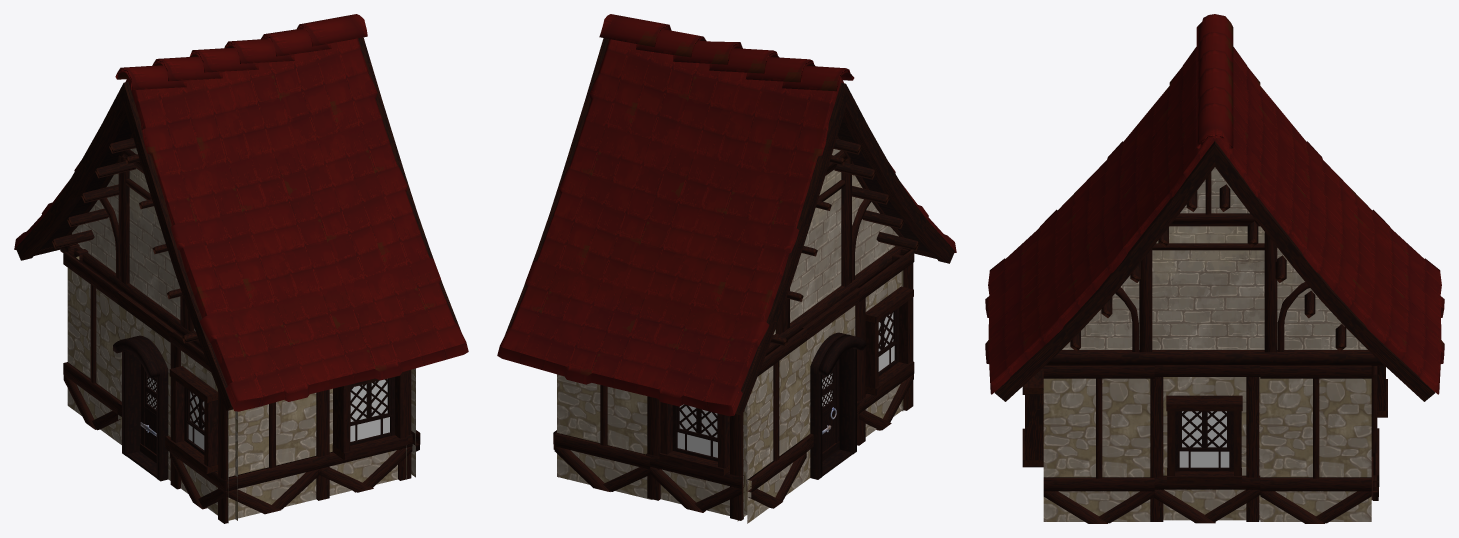
The model's file is Casa_grande.obj.
The picture shows the model from 3 angles, left to right: view 1: azimuth 30°, elevation 25°; view 2: azimuth 150°, elevation 25°; view 3: azimuth 270°, elevation 25°; orthographic projection.
Parts seen in each view (by area): view 1: StaticMeshActor_80, StaticMeshActor_67, StaticMeshActor_47, StaticMeshActor_45, StaticMeshActor_62, StaticMeshActor_43, StaticMeshActor_41, StaticMeshActor_94, StaticMeshActor_61, StaticMeshActor_59, StaticMeshActor_90, StaticMeshActor_49; view 2: StaticMeshActor_80, StaticMeshActor_67, StaticMeshActor_46, StaticMeshActor_45, StaticMeshActor_39, StaticMeshActor_41, StaticMeshActor_94, StaticMeshActor_95, StaticMeshActor_61, StaticMeshActor_59, StaticMeshActor_90; view 3: StaticMeshActor_80, StaticMeshActor_68, StaticMeshActor_50, StaticMeshActor_49, StaticMeshActor_48, StaticMeshActor_63, StaticMeshActor_62, StaticMeshActor_46, StaticMeshActor_95.
Boxes of the visible parts, bbox=[...] form: StaticMeshActor_80: bbox=[14, 14, 468, 411]; StaticMeshActor_67: bbox=[52, 138, 202, 349]; StaticMeshActor_47: bbox=[226, 393, 321, 520]; StaticMeshActor_45: bbox=[63, 251, 122, 444]; StaticMeshActor_62: bbox=[332, 370, 408, 460]; StaticMeshActor_43: bbox=[316, 370, 412, 500]; StaticMeshActor_41: bbox=[169, 331, 237, 523]; StaticMeshActor_94: bbox=[113, 335, 168, 481]; StaticMeshActor_61: bbox=[169, 366, 217, 474]; StaticMeshActor_59: bbox=[117, 291, 176, 480]; StaticMeshActor_90: bbox=[140, 363, 156, 462]; StaticMeshActor_49: bbox=[406, 368, 420, 479]; StaticMeshActor_80: bbox=[497, 14, 956, 416]; StaticMeshActor_67: bbox=[766, 139, 919, 353]; StaticMeshActor_46: bbox=[554, 374, 652, 499]; StaticMeshActor_45: bbox=[737, 328, 806, 523]; StaticMeshActor_39: bbox=[646, 396, 747, 520]; StaticMeshActor_41: bbox=[855, 249, 914, 445]; StaticMeshActor_94: bbox=[810, 332, 866, 479]; StaticMeshActor_95: bbox=[659, 402, 729, 476]; StaticMeshActor_61: bbox=[865, 286, 913, 395]; StaticMeshActor_59: bbox=[802, 287, 861, 483]; StaticMeshActor_90: bbox=[822, 359, 839, 461]; StaticMeshActor_80: bbox=[985, 14, 1444, 401]; StaticMeshActor_68: bbox=[1046, 167, 1384, 365]; StaticMeshActor_50: bbox=[1260, 365, 1371, 523]; StaticMeshActor_49: bbox=[1043, 365, 1154, 523]; StaticMeshActor_48: bbox=[1150, 365, 1260, 523]; StaticMeshActor_63: bbox=[1166, 395, 1242, 483]; StaticMeshActor_62: bbox=[1022, 367, 1043, 467]; StaticMeshActor_46: bbox=[1371, 366, 1379, 500]; StaticMeshActor_95: bbox=[1377, 366, 1387, 417].
Size of the model in its own units: 519 by 807 by 826.
